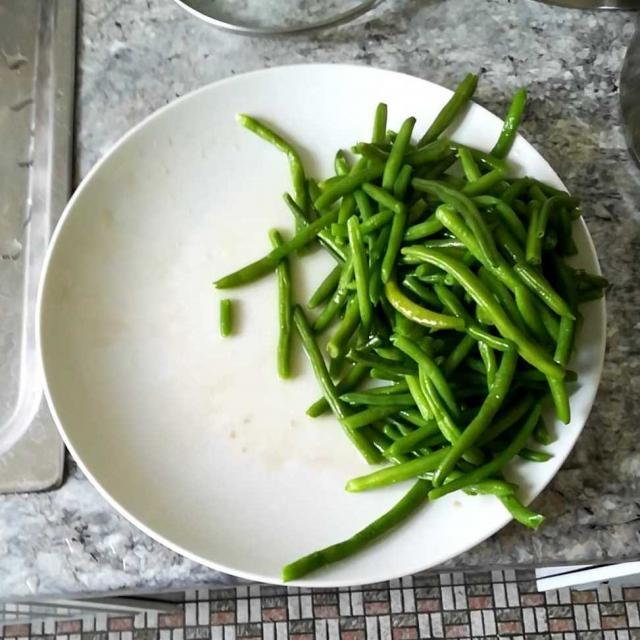beans: (240, 96, 592, 549)
